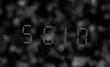five: (18, 18, 35, 45)
one: (54, 20, 71, 47)
six: (36, 19, 53, 46)
zero: (72, 20, 89, 48)
